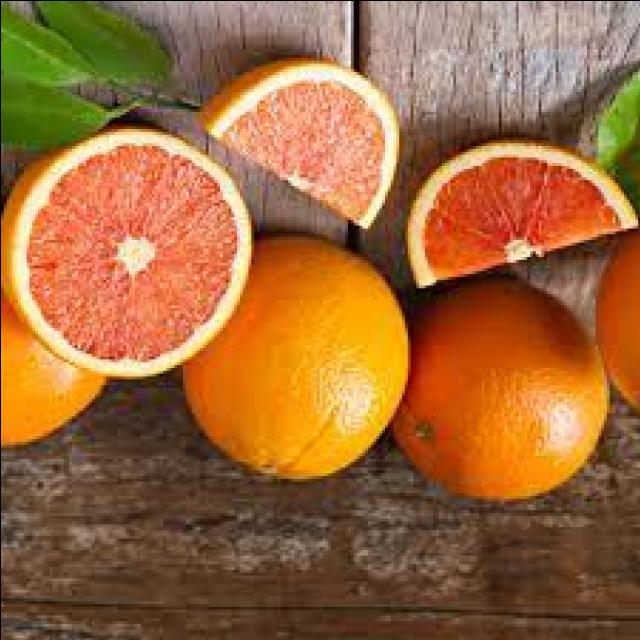orange: (194, 238, 408, 486)
